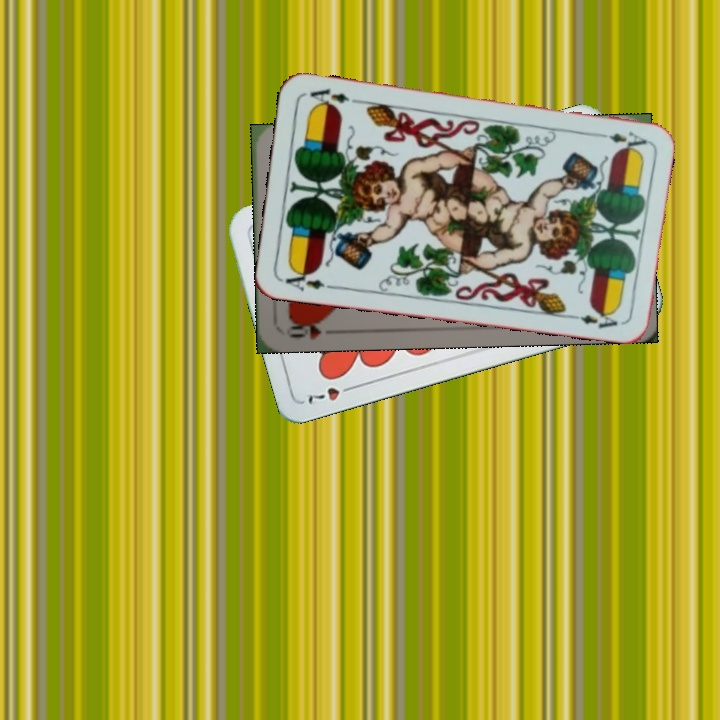EA: (281, 265, 338, 294), (590, 127, 649, 149)
H7: (303, 381, 359, 406)
HO: (282, 316, 341, 342)
